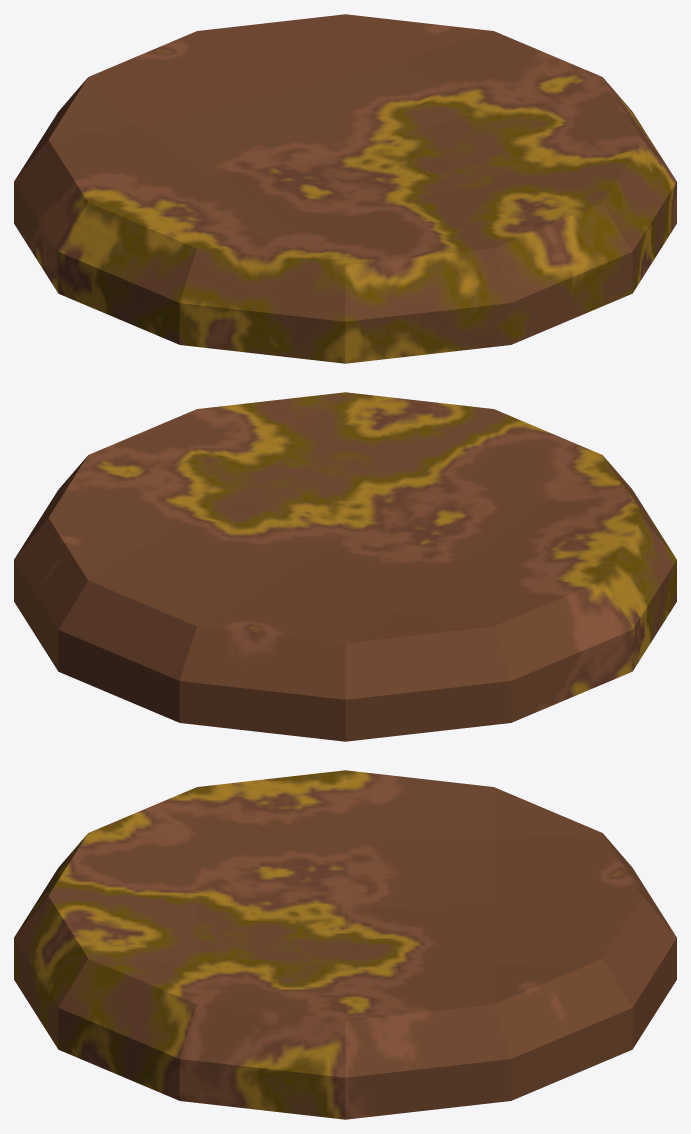
Rendered from socle.FBX.
3 renders of one model, top to bottom at view 1: azimuth 30°, elevation 25°; view 2: azimuth 150°, elevation 25°; view 3: azimuth 270°, elevation 25°, orthographic.
Visible parts, largest first — view 1: Cylinder001; view 2: Cylinder001; view 3: Cylinder001.
Part boxes in pixels (x1=…): Cylinder001: x1=14, y1=14, x2=676, y2=363; Cylinder001: x1=14, y1=392, x2=676, y2=741; Cylinder001: x1=14, y1=770, x2=676, y2=1119.
Bounding box in the file's own units: 82.68 × 11.54 × 82.68.
1 material, 1 textured.
